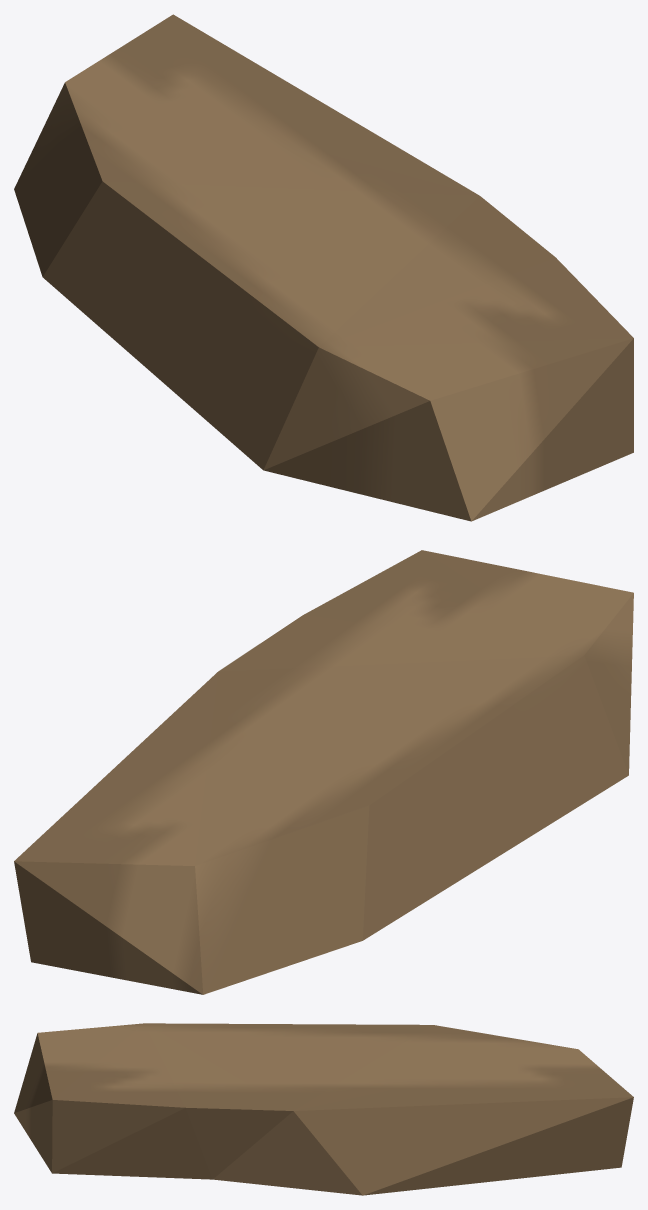
File: SM_FX_Wood_Shard_01.fbx
3 views of the same model, one above another, from view 1: azimuth 30°, elevation 25°; view 2: azimuth 150°, elevation 25°; view 3: azimuth 270°, elevation 25° (orthographic). The views are drawn at different scales.
Parts seen in each view (by area): view 1: SM_FX_Wood_Shard_01; view 2: SM_FX_Wood_Shard_01; view 3: SM_FX_Wood_Shard_01.
Boxes of the visible parts, left/top/right/bottom form: SM_FX_Wood_Shard_01: left=14, top=14, right=633, bottom=521; SM_FX_Wood_Shard_01: left=14, top=550, right=633, bottom=994; SM_FX_Wood_Shard_01: left=14, top=1023, right=633, bottom=1195.
Size of the model in its own units: 21.94 by 6.71 by 49.91.
